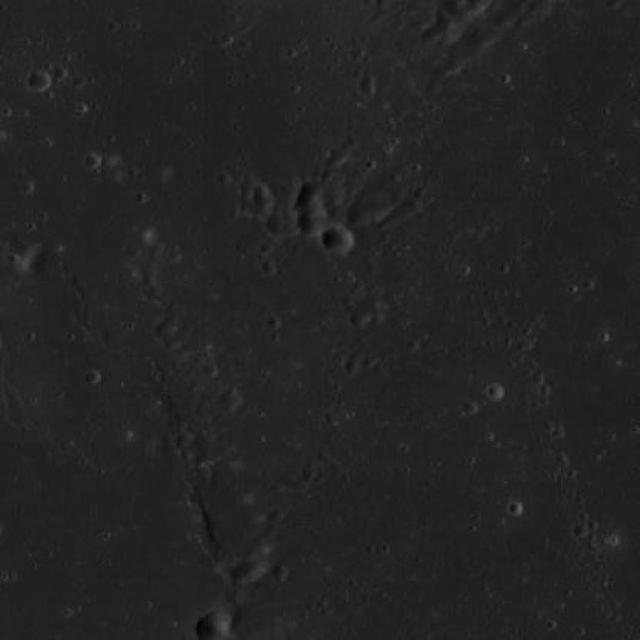crater: (463, 15, 497, 48), (233, 556, 264, 586), (322, 226, 352, 254), (297, 208, 325, 236), (366, 193, 394, 219), (346, 200, 371, 226), (493, 4, 516, 27), (218, 389, 242, 411), (522, 0, 544, 23), (28, 69, 50, 91), (252, 186, 274, 208), (322, 182, 344, 204), (300, 181, 320, 201), (264, 216, 284, 236), (462, 42, 482, 62), (361, 290, 381, 310), (328, 148, 348, 167), (422, 23, 442, 42), (444, 53, 464, 72), (443, 0, 465, 17), (294, 190, 314, 208), (154, 322, 174, 340), (286, 474, 306, 492), (487, 383, 504, 400), (464, 0, 484, 14), (406, 198, 422, 215), (349, 312, 366, 328), (239, 174, 256, 190), (342, 135, 358, 151), (436, 14, 452, 30)
